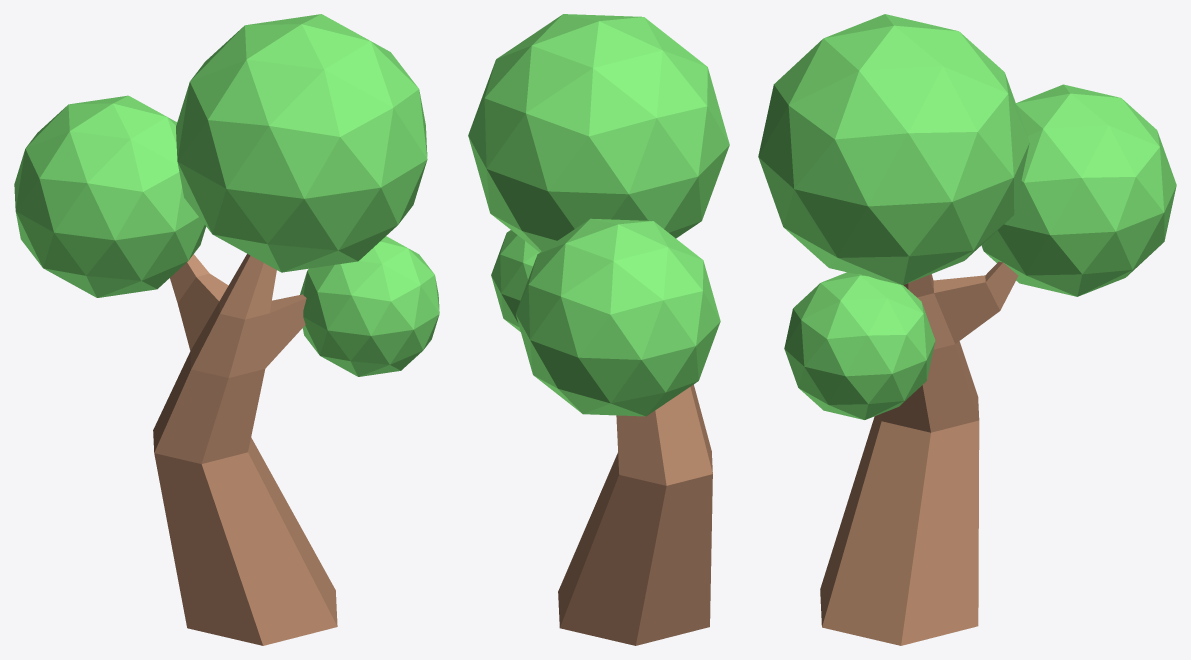
The model's file is tree.glb.
3 views of the same model, side by side, from view 1: azimuth 30°, elevation 25°; view 2: azimuth 150°, elevation 25°; view 3: azimuth 270°, elevation 25° (orthographic). The views are drawn at different scales.
Parts seen in each view (by area): view 1: Cylinder.001; view 2: Cylinder.001; view 3: Cylinder.001.
Boxes of the visible parts, x1=… form: Cylinder.001: x1=14, y1=14, x2=439, y2=645; Cylinder.001: x1=468, y1=14, x2=729, y2=645; Cylinder.001: x1=758, y1=14, x2=1176, y2=645.
Size of the model in its own units: 0.4508 by 0.8151 by 0.5142.
